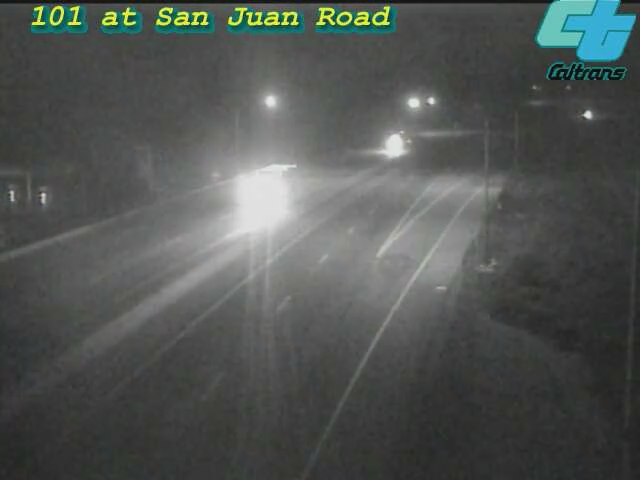vehicle: (219, 152, 299, 232), (371, 119, 421, 169), (562, 90, 612, 140)
